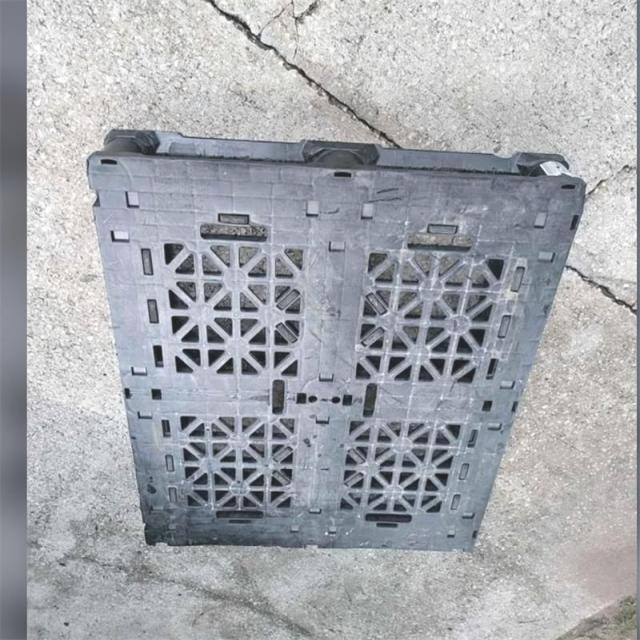igps: (77, 124, 594, 562)
